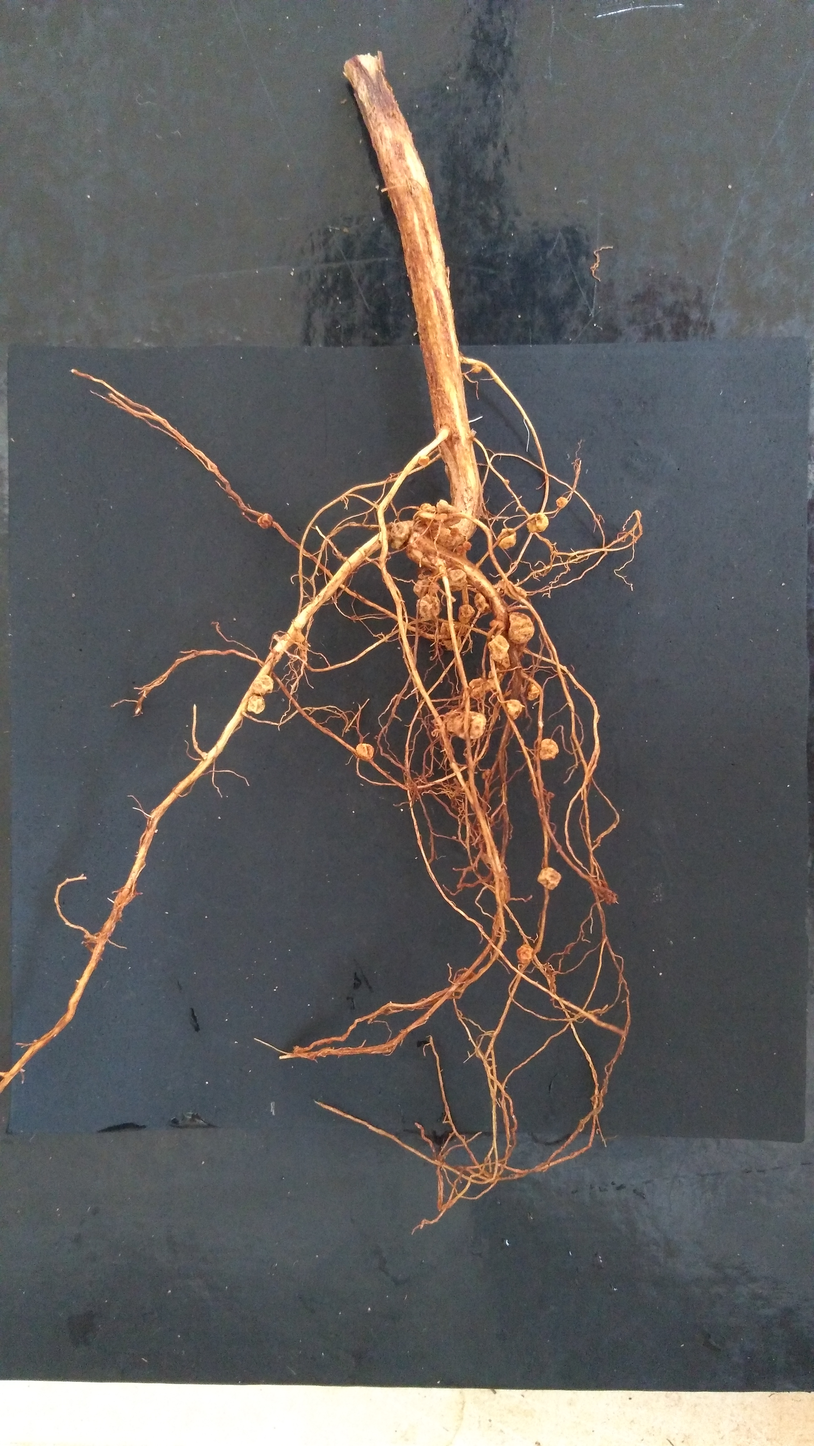nodule: (444, 710, 487, 740), (414, 502, 462, 528), (406, 532, 432, 568), (508, 611, 534, 643), (431, 527, 467, 550), (440, 619, 463, 652), (416, 593, 441, 621), (498, 579, 527, 602), (485, 634, 509, 660), (469, 678, 498, 699), (537, 867, 561, 890), (538, 737, 560, 762), (390, 521, 409, 549), (447, 568, 468, 593), (493, 651, 510, 681), (413, 579, 439, 598), (417, 562, 444, 580), (526, 513, 549, 534), (515, 943, 534, 964), (497, 529, 516, 550), (253, 675, 273, 694), (474, 591, 491, 613), (506, 699, 523, 720), (458, 604, 475, 625), (356, 742, 374, 760), (248, 695, 265, 714), (525, 682, 541, 701), (257, 513, 273, 529), (489, 618, 507, 630), (555, 497, 569, 509), (295, 631, 305, 644), (419, 454, 429, 466), (456, 544, 465, 555), (470, 365, 482, 373), (463, 540, 472, 550), (482, 769, 490, 779), (503, 478, 509, 485), (487, 816, 493, 822), (451, 835, 457, 840), (477, 823, 480, 826)
